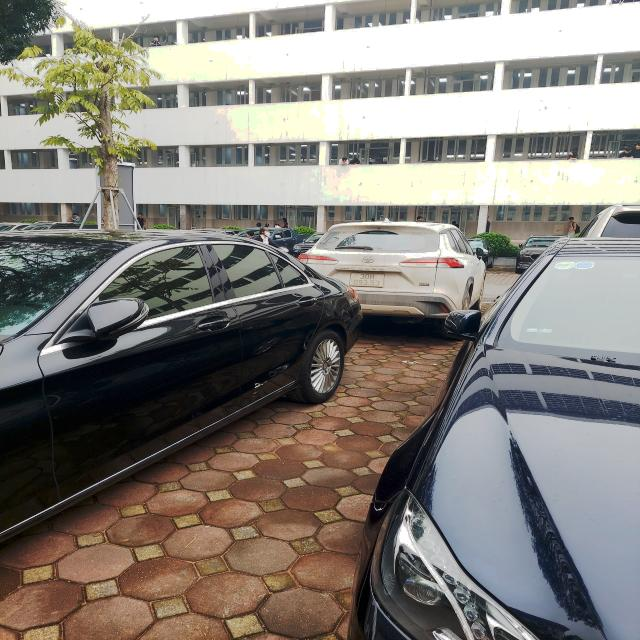license_plate: (351, 274, 386, 288)
